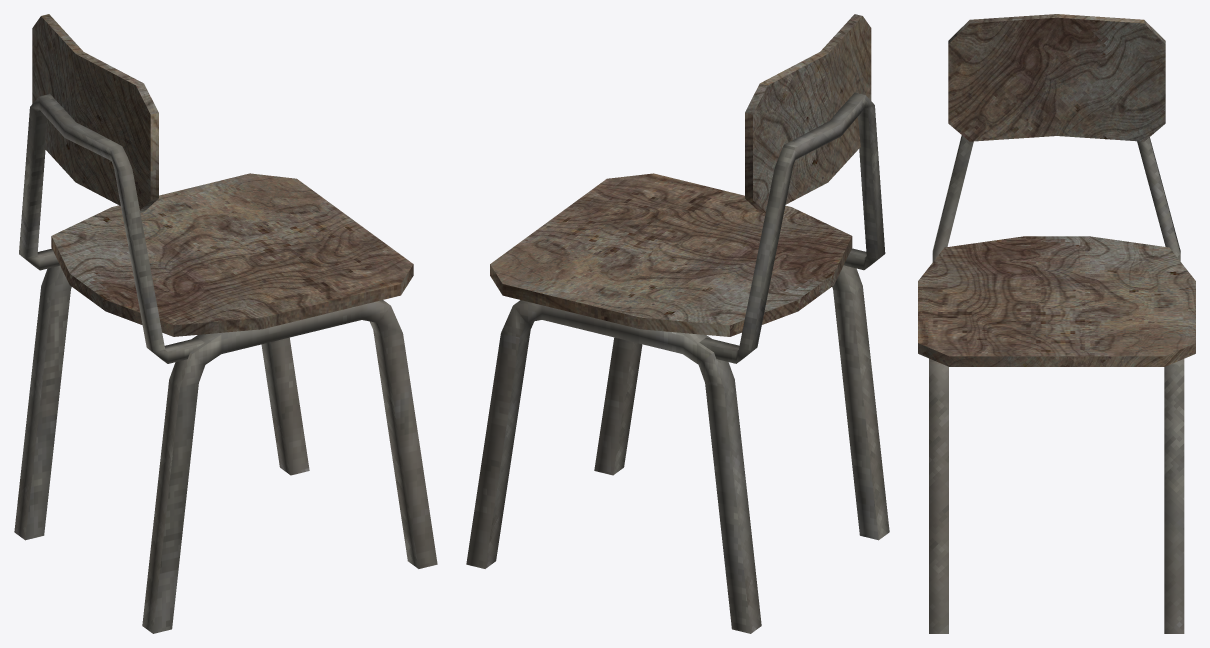
File: _Chair_1.FBX
3 renders of one model, left to right at view 1: azimuth 30°, elevation 25°; view 2: azimuth 150°, elevation 25°; view 3: azimuth 270°, elevation 25°, orthographic. The views are drawn at different scales.
Visible parts, largest first — view 1: _Chair_1; view 2: _Chair_1; view 3: _Chair_1.
Boxes of the visible parts, box(x1,y1,x2,y2) form: _Chair_1: box(14, 14, 437, 633); _Chair_1: box(466, 14, 889, 633); _Chair_1: box(918, 14, 1195, 633).
Size of the model in its own units: 45.6 by 75.98 by 39.15.
Materials: 2 (2 with a texture image).
